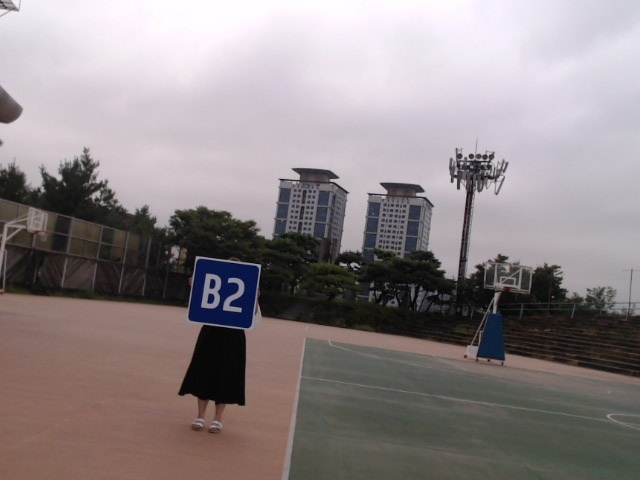delivery_b2: (186, 257, 261, 329)
